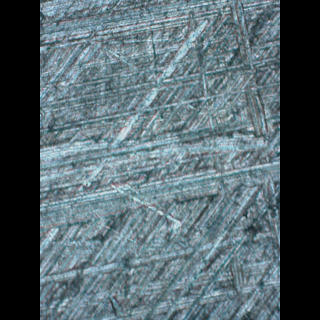d: (40, 138, 280, 226)
